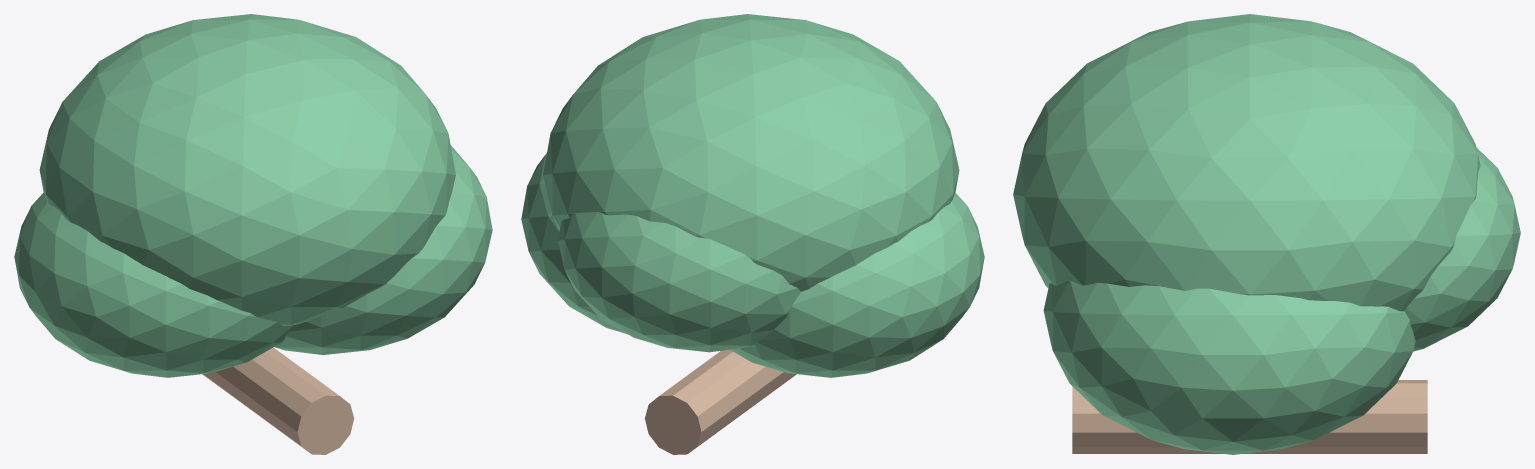
File: arbol_urbano.glb
3 views of the same model, side by side, from view 1: azimuth 30°, elevation 25°; view 2: azimuth 150°, elevation 25°; view 3: azimuth 270°, elevation 25° (orthographic). The views are drawn at different scales.
Parts seen in each view (by area): view 1: Foliage_2, Foliage_3, Foliage_4, Trunk_1; view 2: Foliage_2, Foliage_5, Foliage_3, Trunk_1, Foliage_4; view 3: Foliage_2, Foliage_4, Foliage_5, Trunk_1.
Part boxes in pixels (x1,y1,x2,y2): Foliage_2: (39, 14, 455, 325); Foliage_3: (14, 193, 292, 377); Foliage_4: (274, 145, 492, 354); Trunk_1: (202, 347, 354, 454); Foliage_2: (543, 14, 959, 291); Foliage_5: (558, 211, 800, 352); Foliage_3: (730, 193, 984, 377); Trunk_1: (645, 350, 796, 454); Foliage_4: (521, 153, 627, 334); Foliage_2: (1013, 14, 1480, 311); Foliage_4: (1043, 280, 1415, 454); Foliage_5: (1404, 147, 1520, 351); Trunk_1: (1072, 380, 1427, 453).
Size of the model in its own units: 3.32 by 2.65 by 3.
